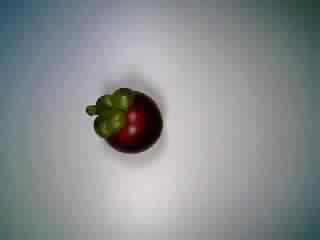mangosteen: (84, 79, 168, 156)
